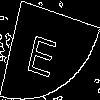E: (25, 25, 61, 79)
